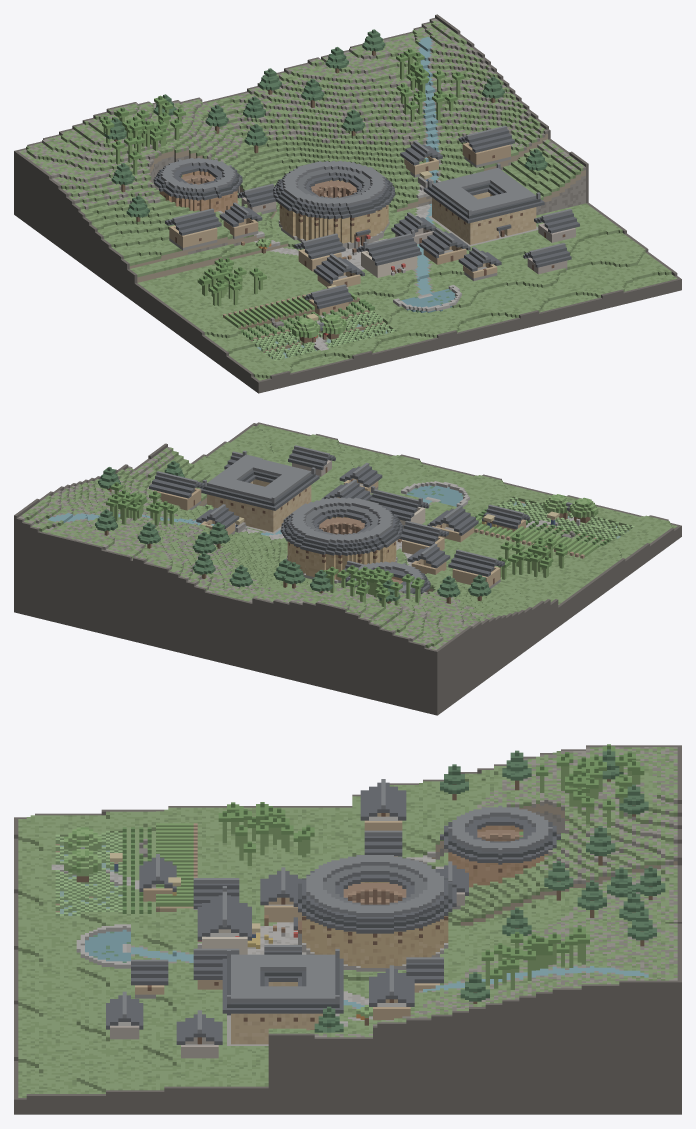
Rendered from tulou_village.glb.
3 views of the same model, one above another, from view 1: azimuth 30°, elevation 25°; view 2: azimuth 150°, elevation 25°; view 3: azimuth 270°, elevation 25° (orthographic). The views are drawn at different scales.
Parts seen in each view (by area): view 1: geometry_0; view 2: geometry_0; view 3: geometry_0.
Boxes of the visible parts, bbox=[...] form: geometry_0: bbox=[14, 14, 681, 393]; geometry_0: bbox=[14, 422, 681, 715]; geometry_0: bbox=[14, 744, 681, 1114].
Bounding box in the file's own units: 160 × 40 × 160.
